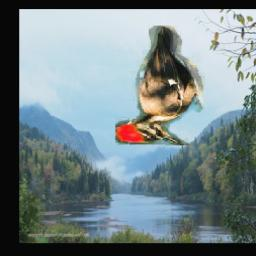Woodpecker: (115, 27, 206, 146)
